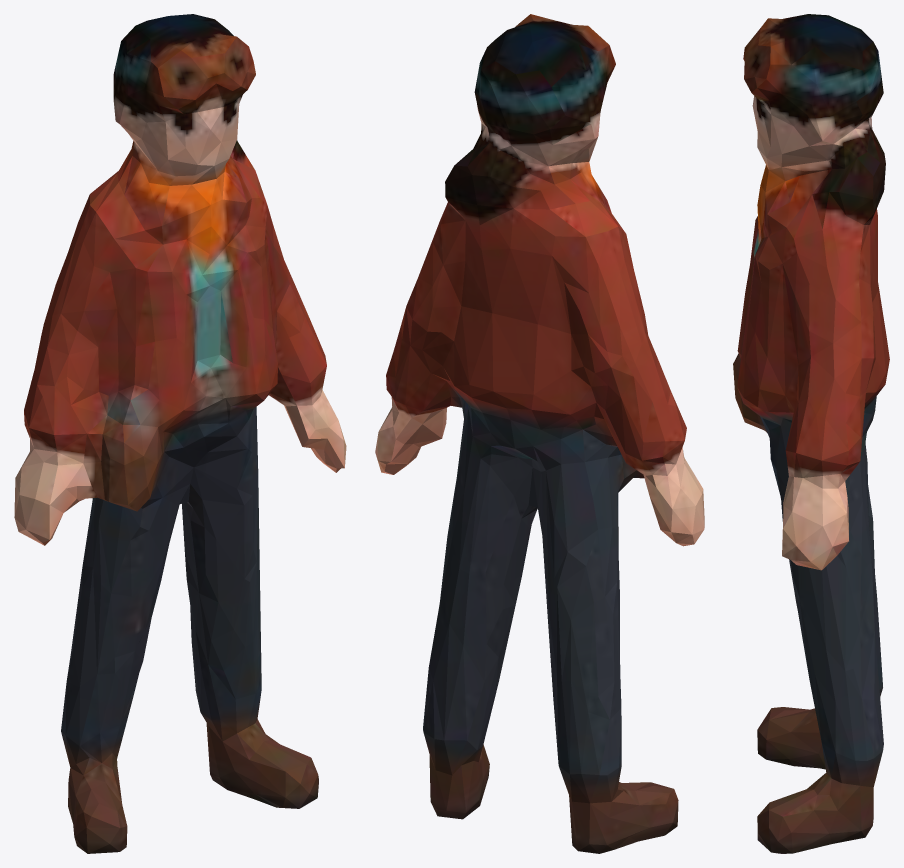
The model's file is habitant-loin.glb.
3 views of the same model, side by side, from view 1: azimuth 30°, elevation 25°; view 2: azimuth 150°, elevation 25°; view 3: azimuth 270°, elevation 25° (orthographic).
Parts seen in each view (by area): view 1: habitant; view 2: habitant; view 3: habitant.
Part boxes in pixels (x1=…): habitant: x1=14, y1=14, x2=346, y2=853; habitant: x1=375, y1=14, x2=704, y2=853; habitant: x1=733, y1=14, x2=889, y2=853.
Size of the model in its own units: 0.4254 by 1.01 by 0.1846.
Materials: 1 (1 with a texture image).
